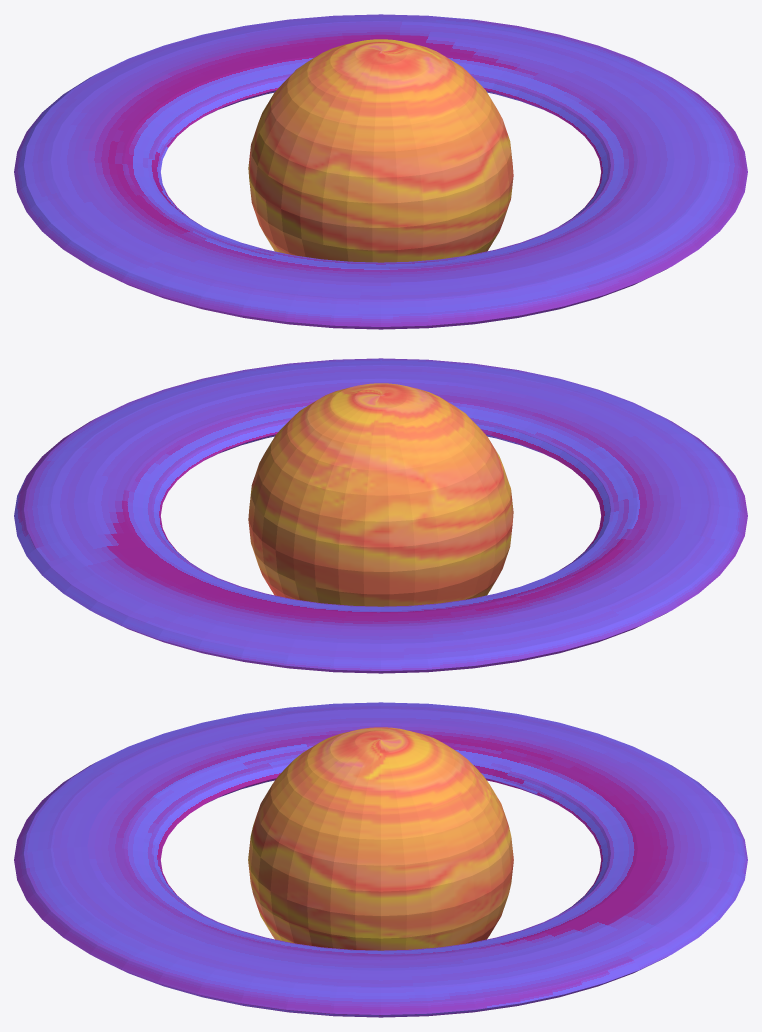
The model's file is menuplanet.fbx.
3 views of the same model, one above another, from view 1: azimuth 30°, elevation 25°; view 2: azimuth 150°, elevation 25°; view 3: azimuth 270°, elevation 25° (orthographic).
Visible parts, largest first — view 1: planet_ring, planet; view 2: planet_ring, planet; view 3: planet_ring, planet.
Part boxes in pixels (<box>): planet_ring: <box>14,14,747,329</box>; planet: <box>248,39,513,262</box>; planet_ring: <box>14,358,747,673</box>; planet: <box>248,383,513,606</box>; planet_ring: <box>14,702,747,1017</box>; planet: <box>248,727,513,950</box>.
Bounding box in the file's own units: 552 × 200 × 552.
2 materials, 2 textured.
